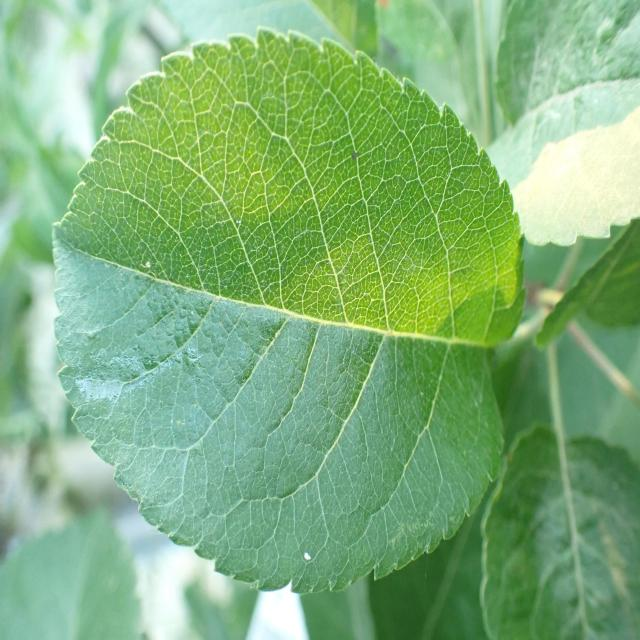healthy: (52, 26, 527, 594), (484, 0, 640, 247), (480, 422, 640, 640)
